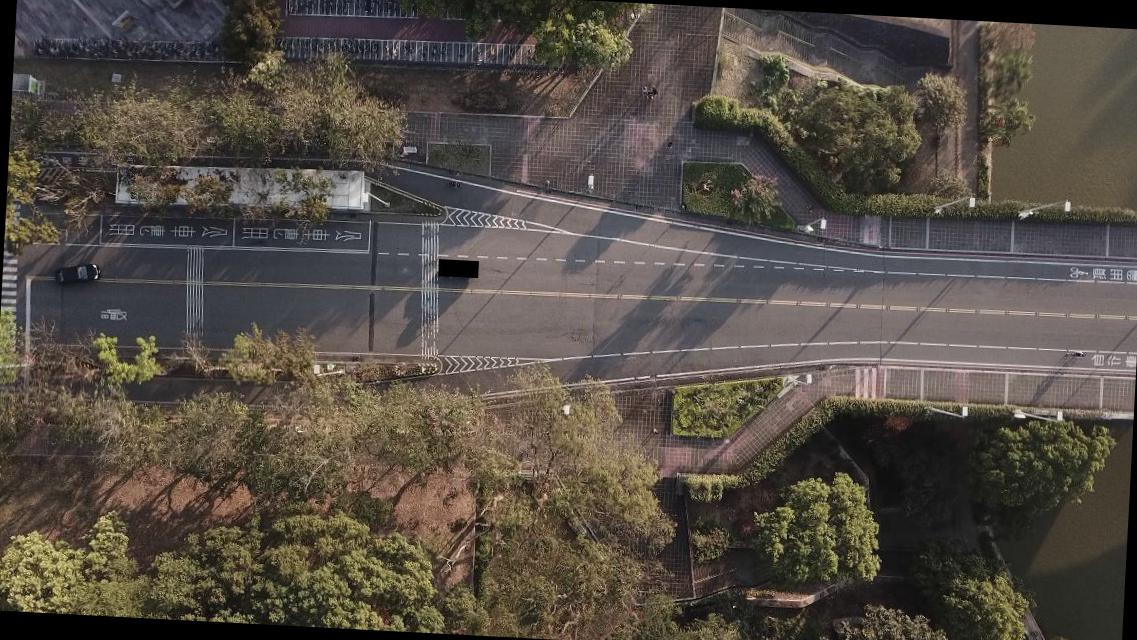vehicle: (52, 262, 100, 286)
